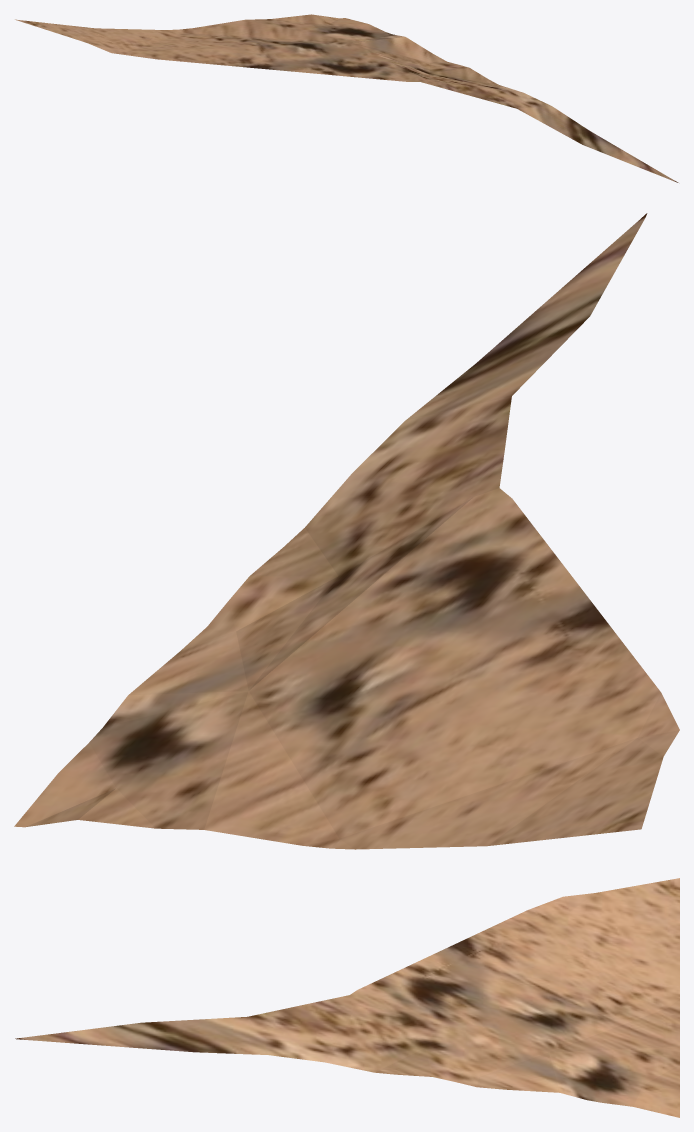
3 views of the same model, one above another, from view 1: azimuth 30°, elevation 25°; view 2: azimuth 150°, elevation 25°; view 3: azimuth 270°, elevation 25° (orthographic). The views are drawn at different scales.
Size of the model in its own units: 1.46 by 0.3339 by 2.55.
Materials: 1 (1 with a texture image).
